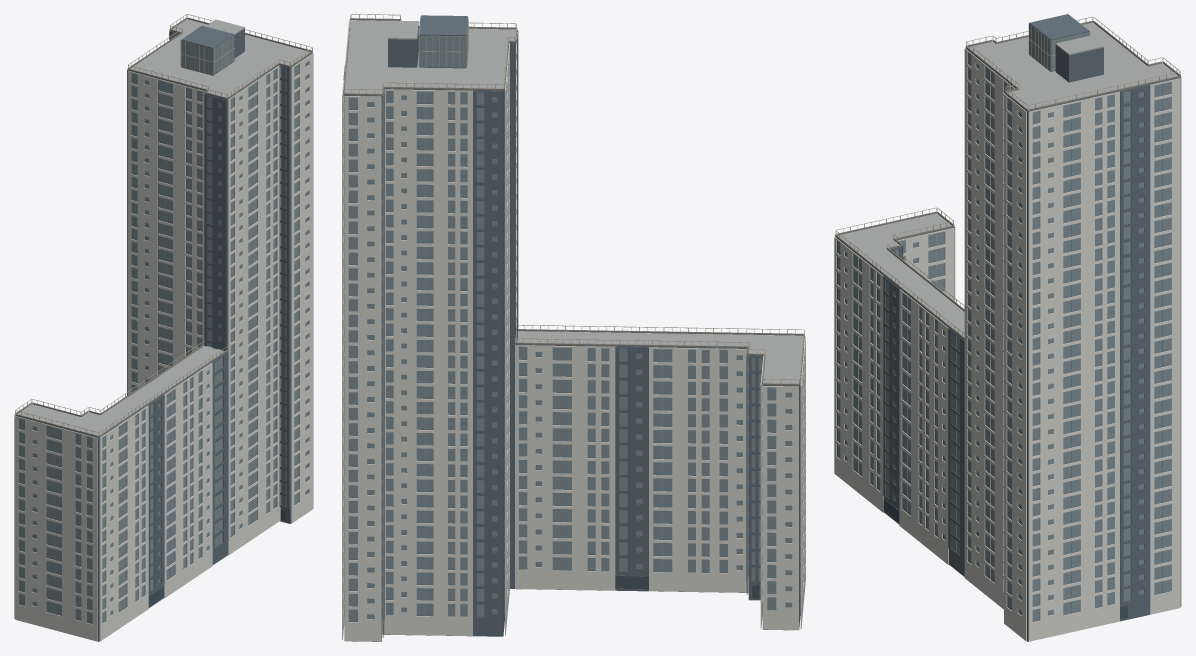
Rendered from bespoke-raemian-onebailey-105.glb.
3 views of the same model, side by side, from view 1: azimuth 30°, elevation 25°; view 2: azimuth 150°, elevation 25°; view 3: azimuth 270°, elevation 25° (orthographic). The views are drawn at different scales.
Parts seen in each view (by area): view 1: 105_pale_bays_navy_shafts001_4, 105_pale_bays_navy_shafts001, 105_editable_massing, 105_glass_roof_crown001_3, 105_pale_bays_navy_shafts001_2, 105_glass_roof_crown001; view 2: 105_pale_bays_navy_shafts001_4, 105_pale_bays_navy_shafts001, 105_editable_massing, 105_glass_roof_crown001_3, 105_pale_bays_navy_shafts001_2, 105_glass_roof_crown001; view 3: 105_pale_bays_navy_shafts001_4, 105_pale_bays_navy_shafts001, 105_editable_massing, 105_glass_roof_crown001_3, 105_pale_bays_navy_shafts001_2, 105_glass_roof_crown001.
Part boxes in pixels (<box>): 105_pale_bays_navy_shafts001_4: <box>14,30,313,641</box>; 105_pale_bays_navy_shafts001: <box>19,33,308,623</box>; 105_editable_massing: <box>16,25,311,641</box>; 105_glass_roof_crown001_3: <box>17,19,310,437</box>; 105_pale_bays_navy_shafts001_2: <box>15,14,312,613</box>; 105_glass_roof_crown001: <box>15,17,312,437</box>; 105_pale_bays_navy_shafts001_4: <box>342,20,805,641</box>; 105_pale_bays_navy_shafts001: <box>344,16,803,621</box>; 105_editable_massing: <box>343,15,802,641</box>; 105_glass_roof_crown001_3: <box>344,20,803,385</box>; 105_pale_bays_navy_shafts001_2: <box>343,14,804,615</box>; 105_glass_roof_crown001: <box>343,18,804,385</box>; 105_pale_bays_navy_shafts001_4: <box>834,35,1181,641</box>; 105_pale_bays_navy_shafts001: <box>837,24,1170,621</box>; 105_editable_massing: <box>836,14,1179,641</box>; 105_glass_roof_crown001_3: <box>838,22,1177,337</box>; 105_pale_bays_navy_shafts001_2: <box>835,16,1180,613</box>; 105_glass_roof_crown001: <box>835,20,1180,339</box>.
Bounding box in the file's own units: 79.99 × 110 × 61.21.
